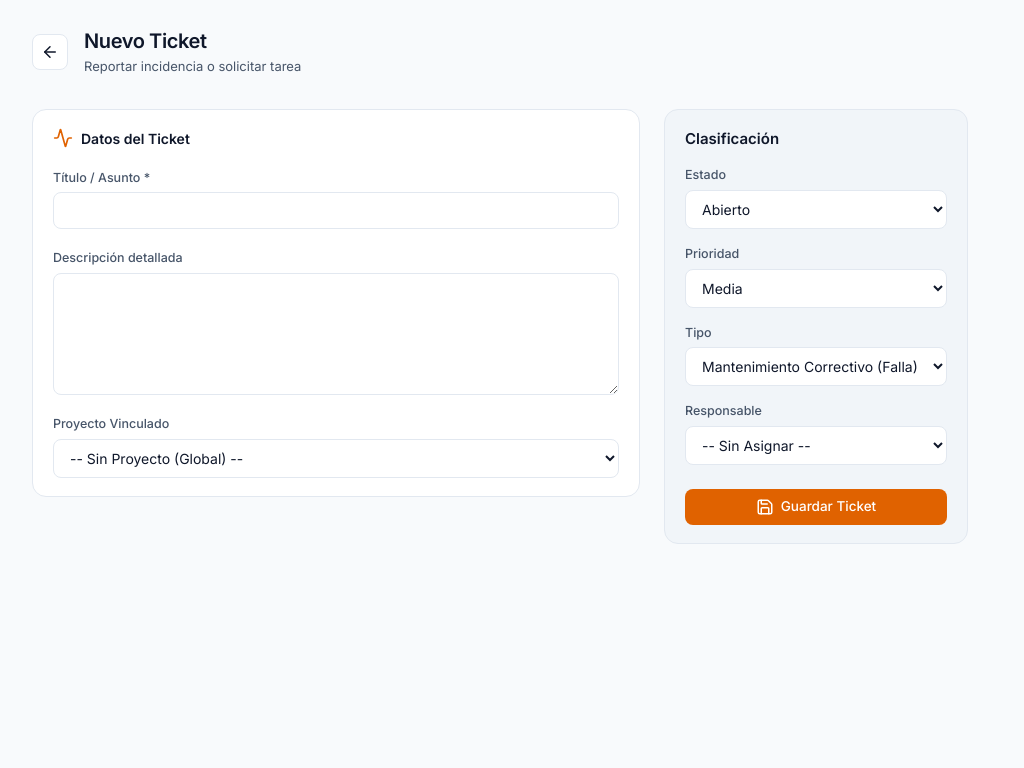
Test: TicketDetalle — pantalla › un ticket nuevo se guarda con el responsable propuesto y navega al detalle avisando que se creó
Type "Nuevo" into the field labelled "Título / Asunto *".
click(336, 211); type("Nuevo")  # box [53,192,619,229]
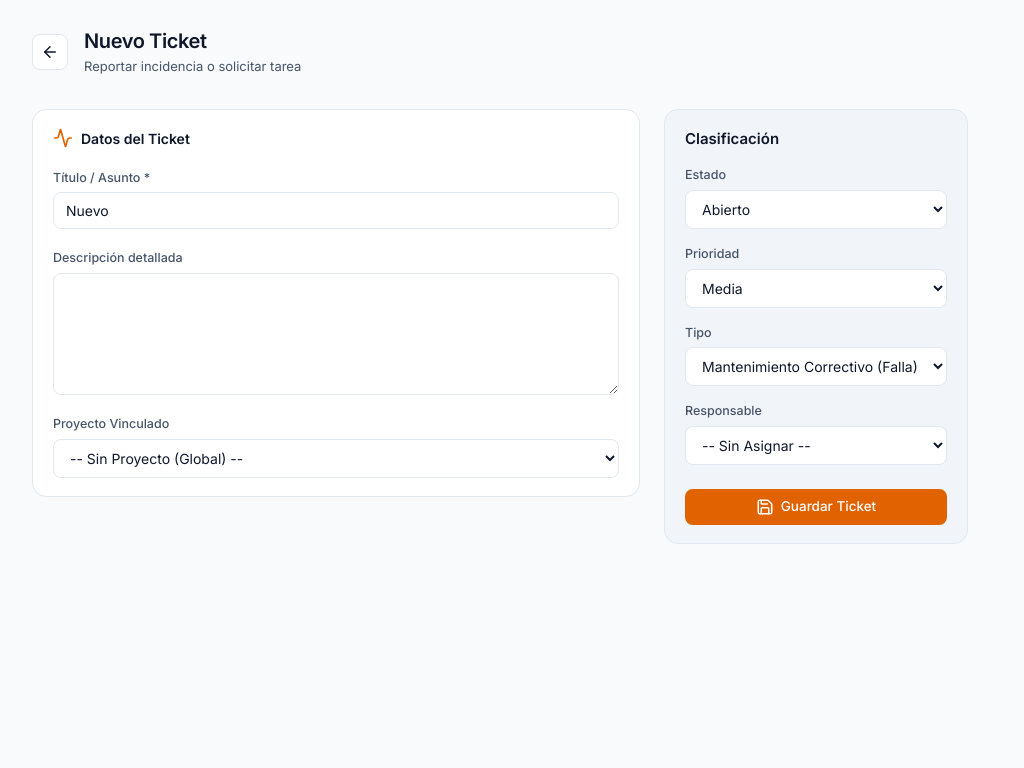
Select "Proyecto Uno (Uno SA)" in the dropdown below "Proyecto Vinculado" at {"x": 336, "y": 458}, box [53,439,619,478]
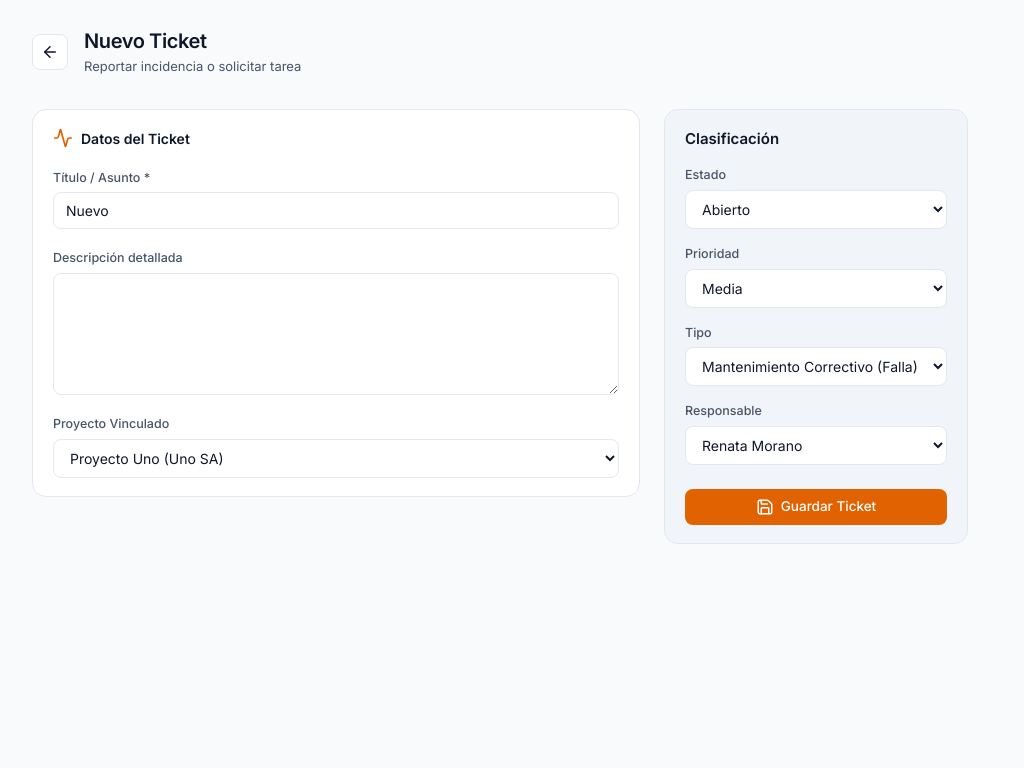
Click the button "Guardar Ticket".
click(816, 507)  # box [685,489,947,525]
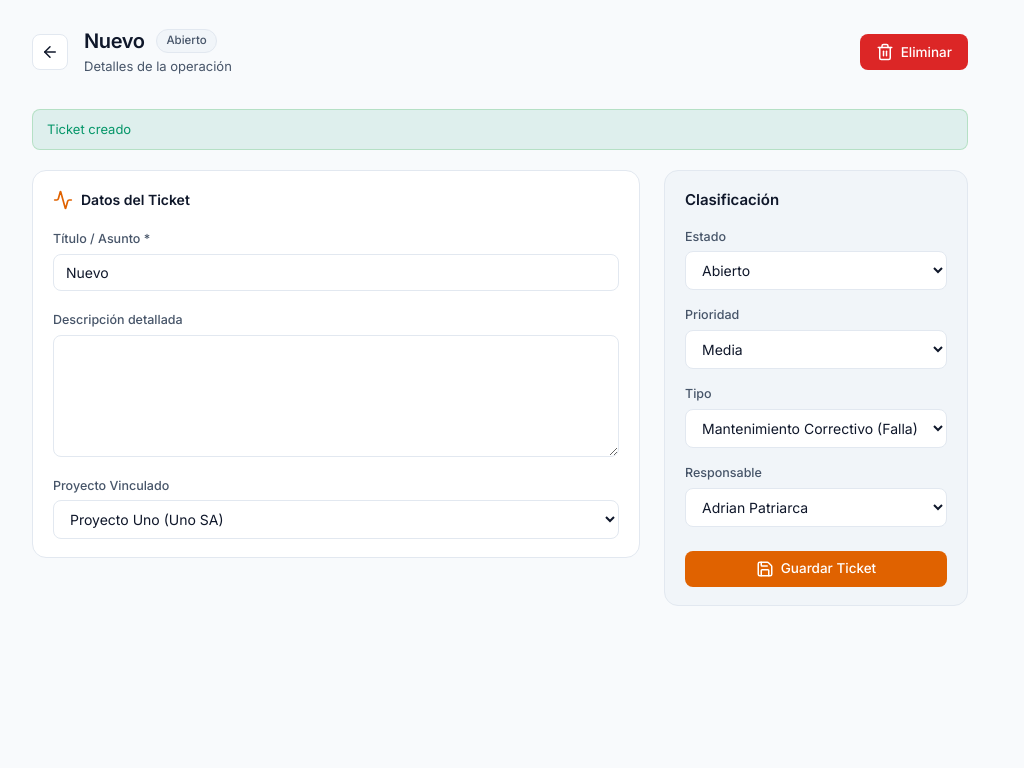
Check: the text "Ticket creado" is shown, box [32,108,968,150]
